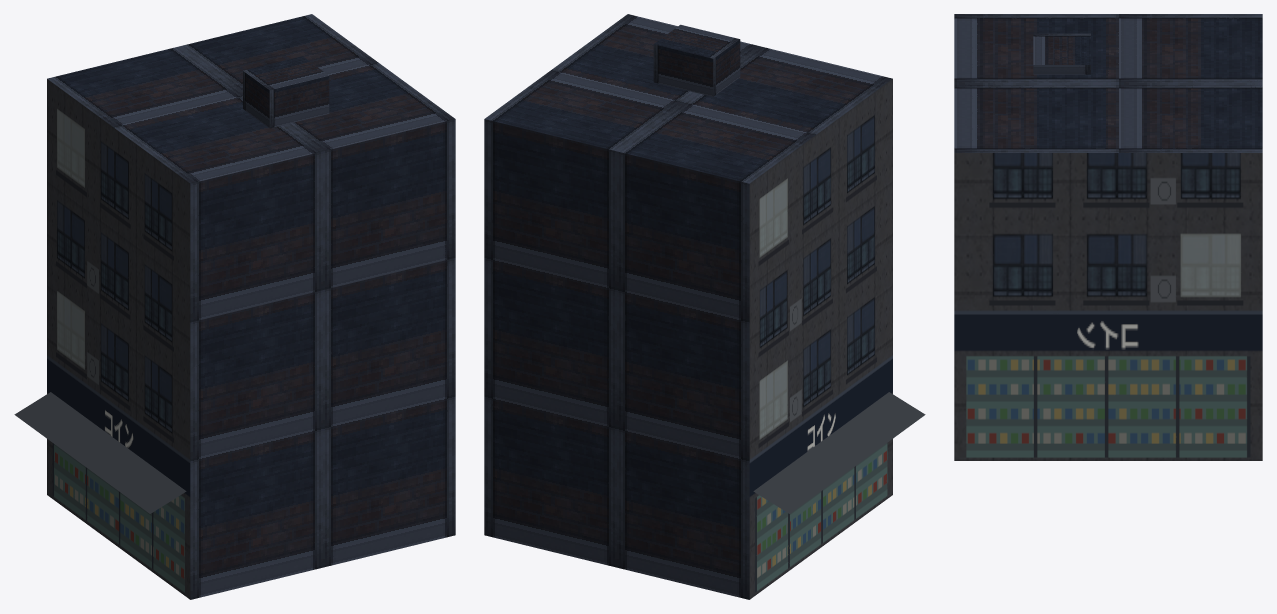
File: street_shop_2.glb
3 renders of one model, left to right at view 1: azimuth 30°, elevation 25°; view 2: azimuth 150°, elevation 25°; view 3: azimuth 270°, elevation 25°, orthographic. The views are drawn at different scales.
Parts seen in each view (by area): view 1: street_shop_2; view 2: street_shop_2; view 3: street_shop_2.
Boxes of the visible parts, x1,y1,x2,y2 form: street_shop_2: [14, 14, 455, 599]; street_shop_2: [484, 14, 925, 599]; street_shop_2: [954, 14, 1262, 460].
Bounding box in the file's own units: 9.1 × 13.1 × 7.5.
3 materials, 3 textured.
